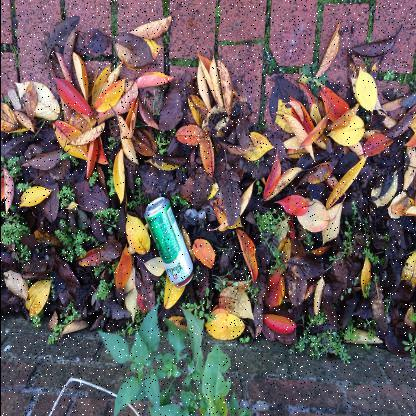metal: (144, 196, 192, 290)
